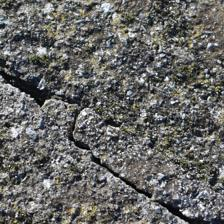Crack: (40, 13, 151, 72), (65, 55, 177, 107)
